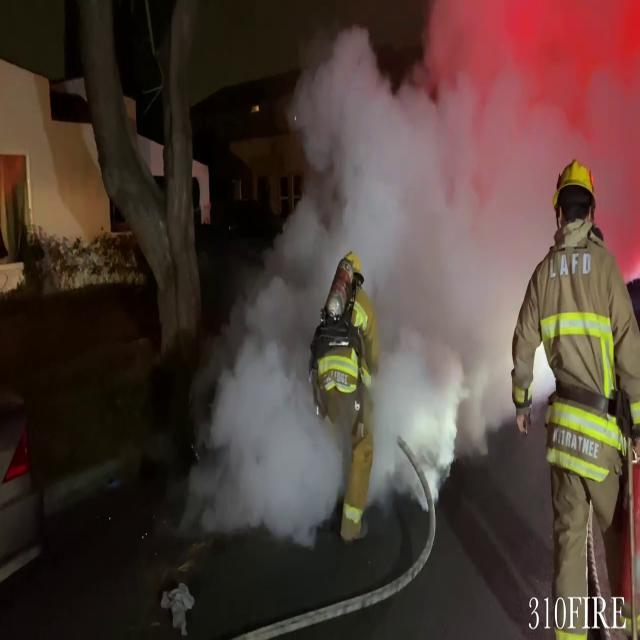Smoke: (210, 1, 572, 483)
